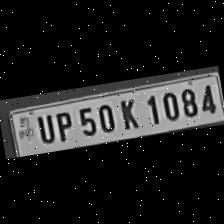0: (156, 86, 181, 122), (93, 99, 118, 134)
1: (138, 92, 162, 126)
4: (195, 80, 219, 114)
5: (72, 103, 98, 139)
8: (176, 84, 200, 119)
K: (114, 94, 144, 131)
P: (51, 107, 76, 143)
U: (31, 110, 56, 146)
